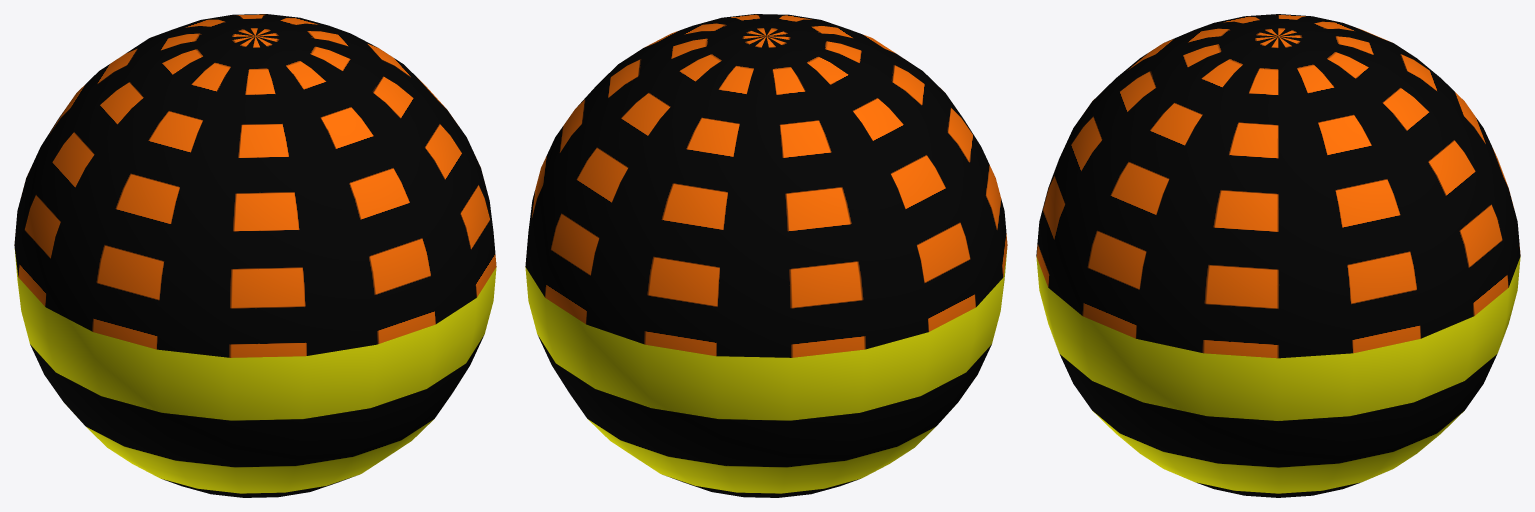
The model's file is Ball_new.glb.
3 renders of one model, left to right at view 1: azimuth 30°, elevation 25°; view 2: azimuth 150°, elevation 25°; view 3: azimuth 270°, elevation 25°, orthographic.
Visible parts, largest first — view 1: pSphere1; view 2: pSphere1; view 3: pSphere1.
Part boxes in pixels (<box>): pSphere1: <box>14,14,496,497</box>; pSphere1: <box>525,14,1007,497</box>; pSphere1: <box>1036,14,1520,497</box>.
Bounding box in the file's own units: 2 × 2 × 2.
Materials: 2 (2 with a texture image).
